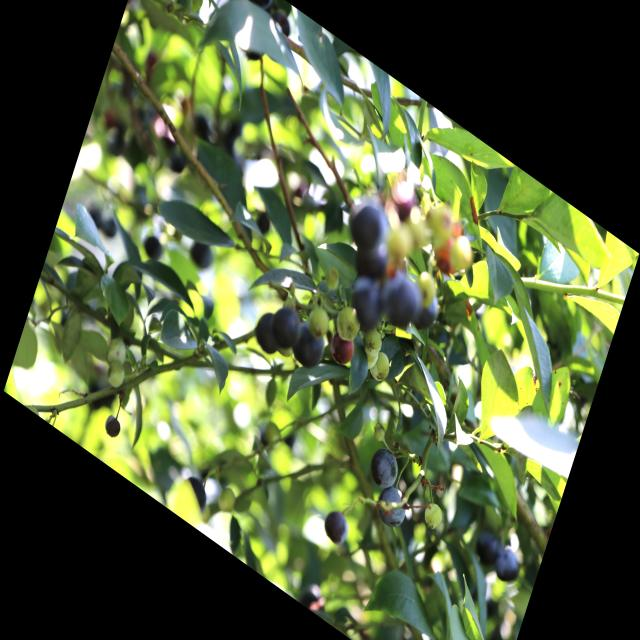blueberry: (381, 266, 425, 332), (346, 192, 390, 256), (346, 273, 387, 332), (291, 316, 328, 373), (364, 442, 402, 497), (376, 481, 412, 533), (270, 300, 303, 351), (491, 540, 523, 591), (321, 501, 354, 549), (470, 527, 502, 573), (248, 314, 278, 360)
blueberry-halfripe: (326, 327, 358, 372)
blueberry-unripe: (331, 300, 363, 348), (367, 346, 394, 388), (304, 301, 331, 342), (360, 323, 385, 361), (421, 498, 445, 533)
